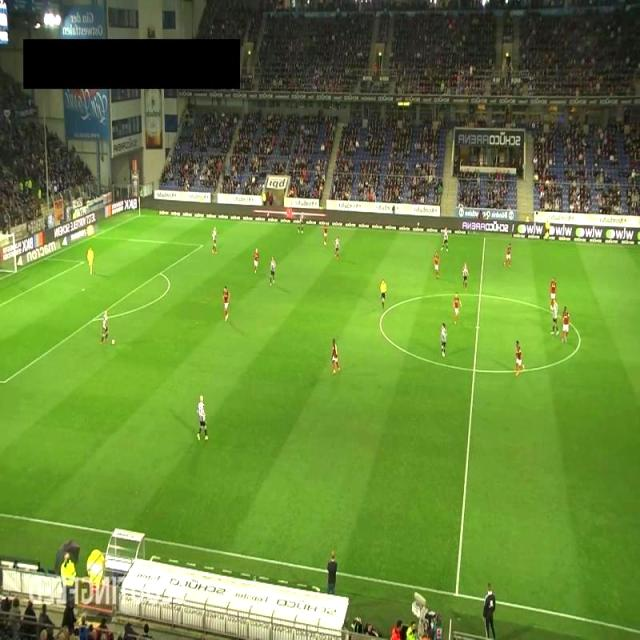bigarea_bottom_inner: (0, 378, 9, 388)
bigarea_top_inner: (198, 238, 208, 250)
bigarea_top_outter: (88, 230, 99, 240)
bottom_arc_area_intersection: (88, 313, 100, 324)
corner: (134, 209, 146, 220)
halfcircle_bottom: (469, 364, 480, 374)
halfcircle_top: (474, 289, 485, 300)
midline_bottom_intersection: (452, 586, 465, 603)
midline_top_intersection: (479, 232, 490, 243)
smallarea_top_inner: (78, 256, 89, 268)
smallarea_top_outter: (41, 252, 52, 262)
top_arc_area_intersection: (156, 266, 167, 277)
